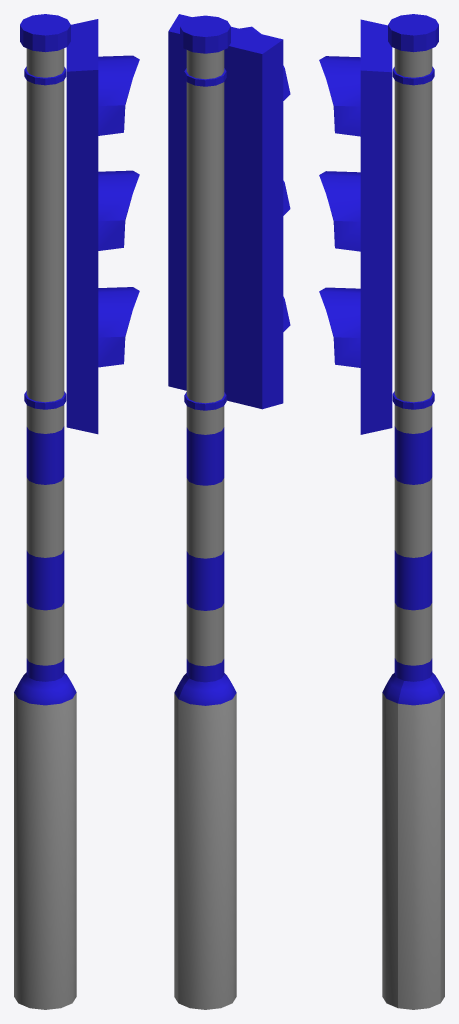
Rendered from Stoplicht2_Export.FBX.
The picture shows the model from 3 angles, left to right: view 1: azimuth 90°, elevation 25°; view 2: azimuth 150°, elevation 25°; view 3: azimuth 270°, elevation 25°; orthographic projection.
Visible parts, largest first — view 1: StopLicht1; view 2: StopLicht1; view 3: StopLicht1.
Part boxes in pixels (x1,y1,x2,y2): StopLicht1: (14, 14, 139, 1009); StopLicht1: (168, 14, 290, 1009); StopLicht1: (319, 14, 444, 1009).
Size of the model in its own units: 27 by 240 by 28.15.
